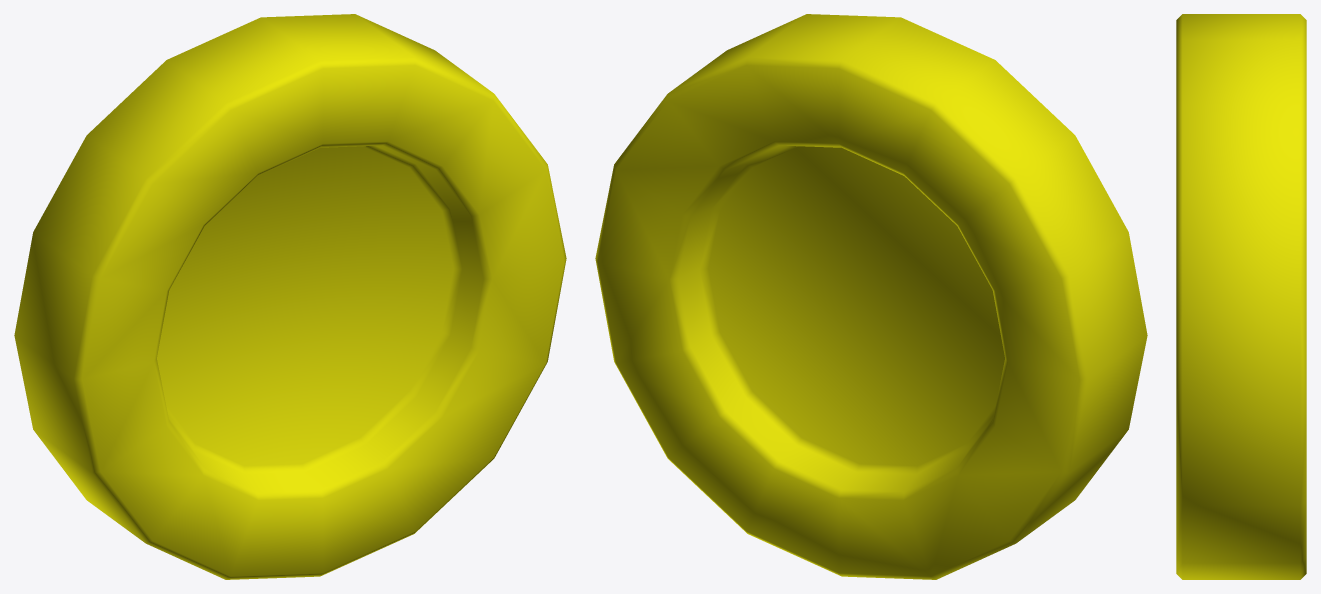
Rendered from coin.gltf.
The picture shows the model from 3 angles, left to right: view 1: azimuth 30°, elevation 25°; view 2: azimuth 150°, elevation 25°; view 3: azimuth 270°, elevation 25°; orthographic projection.
Parts seen in each view (by area): view 1: Coin.tris; view 2: Coin.tris; view 3: Coin.tris.
Boxes of the visible parts, <box> form: Coin.tris: <box>14,14,566,579</box>; Coin.tris: <box>595,14,1147,579</box>; Coin.tris: <box>1176,14,1306,579</box>.
Bounding box in the file's own units: 1 × 1 × 0.2298.
